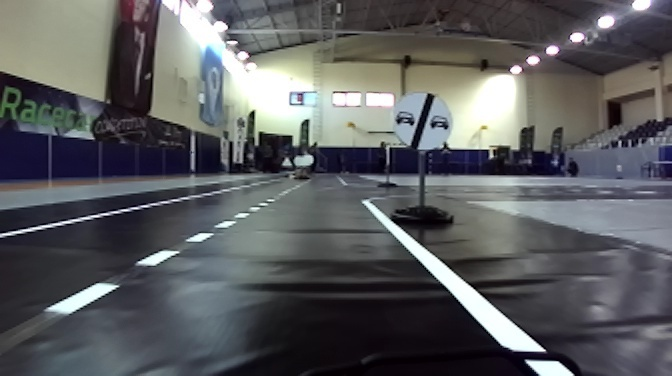sollama_serbest: (394, 92, 451, 149)
